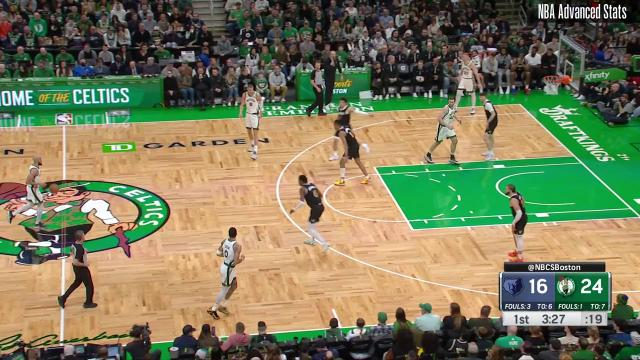3_sx: (524, 109, 532, 116)
b_sx: (514, 99, 526, 108)
free_adx: (407, 224, 421, 238)
free_asx: (371, 164, 382, 172)
free_bdx: (635, 212, 640, 222)
free_bsx: (568, 152, 580, 160)
half_sx: (60, 123, 68, 131)
mid_dx: (334, 322, 346, 334)
referee: (58, 230, 98, 310), (303, 63, 329, 116)
team: (210, 226, 243, 318), (12, 156, 50, 230), (426, 98, 462, 164), (450, 52, 482, 114), (238, 84, 264, 160)
team1: (291, 176, 331, 252), (330, 99, 370, 158), (334, 122, 371, 185), (504, 183, 528, 261), (478, 92, 498, 160)
timer: (541, 310, 567, 326)
